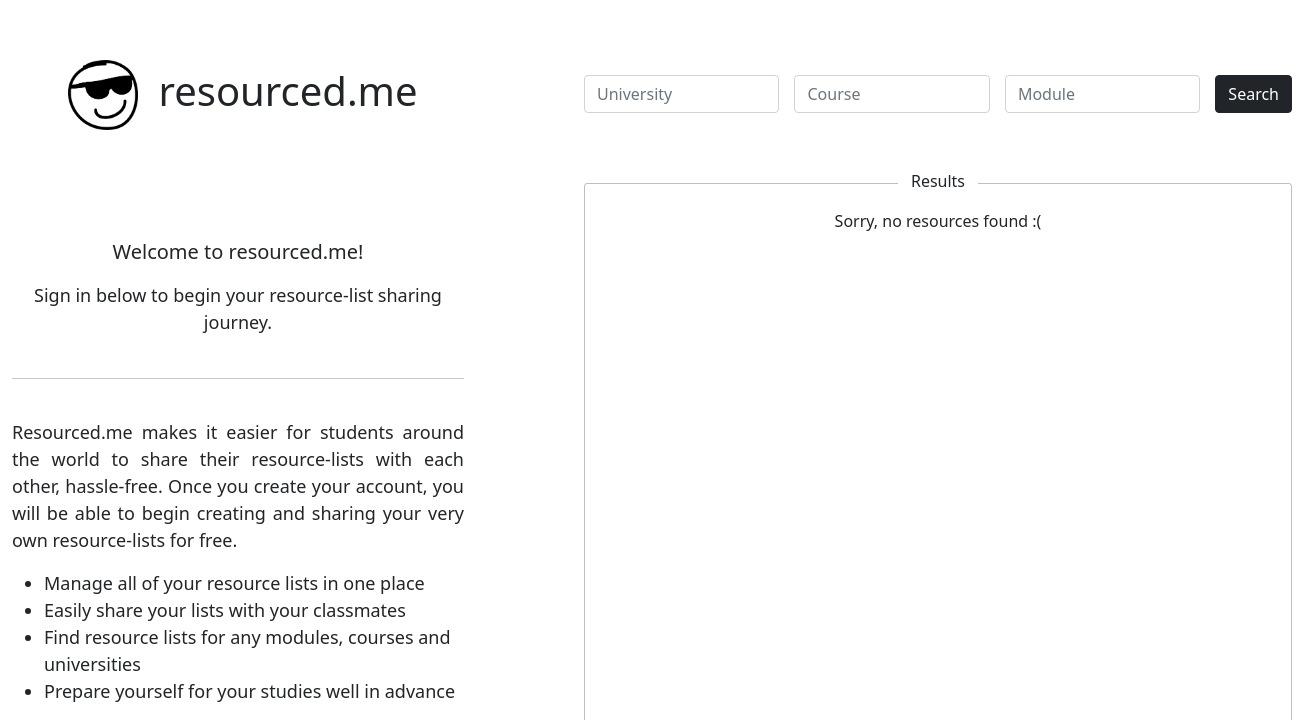
Test: Homepage unit test › Populates search results according to response
Click the button "Search".
click(1254, 94)  # box [1215,75,1292,113]
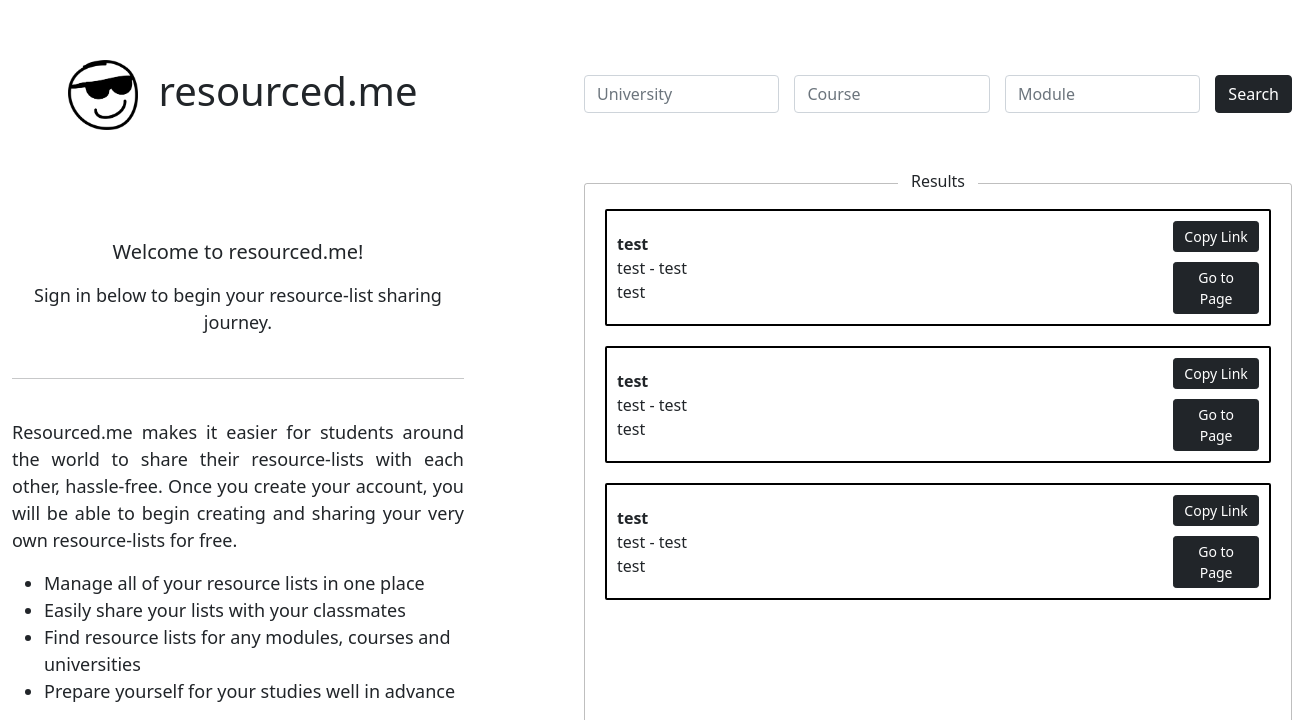
Result: the number of "SearchResult" components is 3 at [605,209,1271,326]
